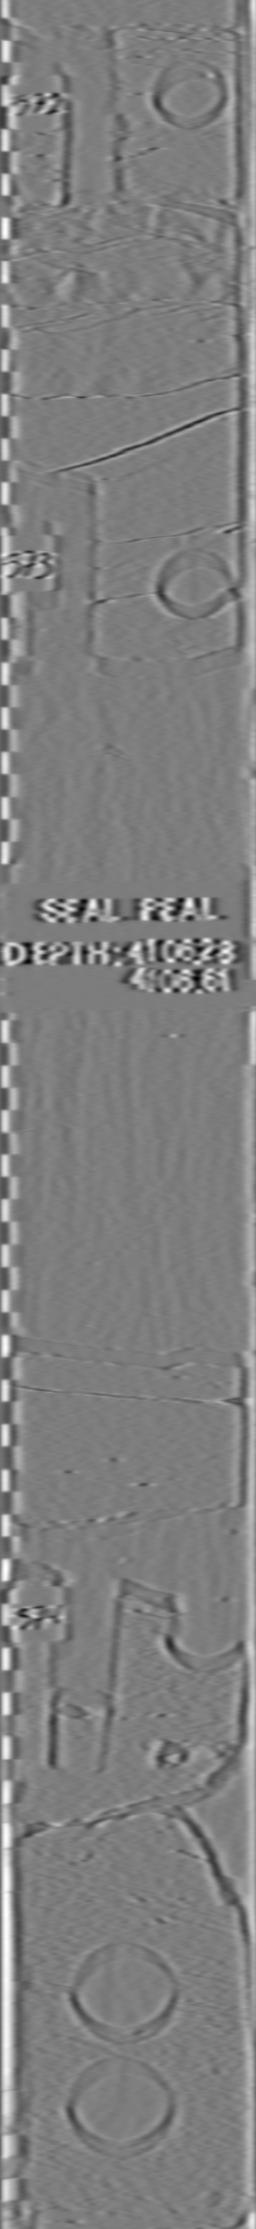hplug: (144, 51, 238, 135), (149, 544, 236, 628), (161, 1601, 249, 1679)
scal: (65, 1935, 179, 2051), (63, 2054, 179, 2164)
vplug: (18, 456, 107, 665), (38, 1579, 131, 1776), (48, 18, 124, 205)
